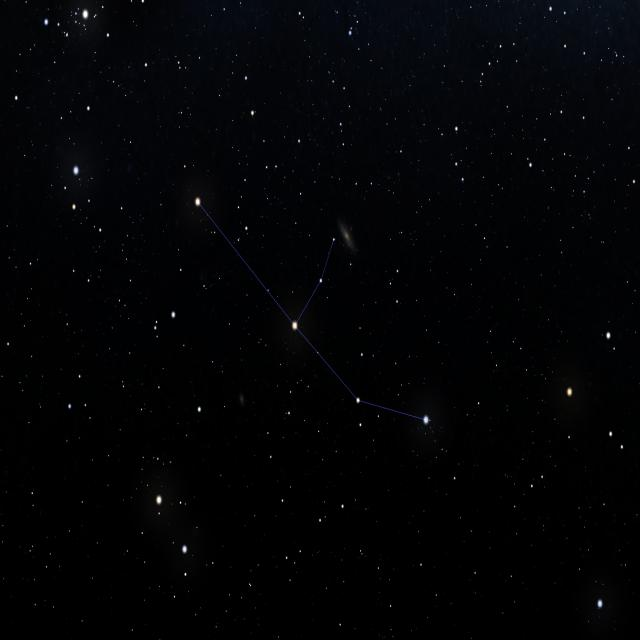Andromedalines: (173, 173, 477, 477)
